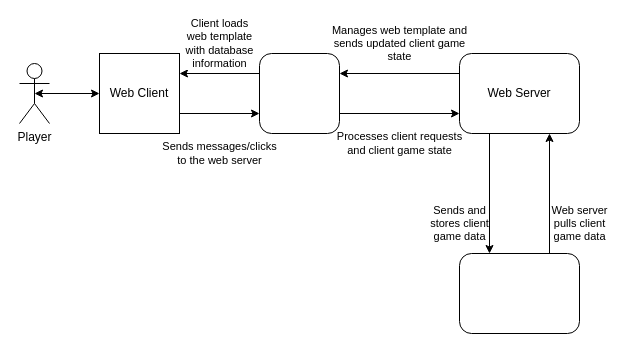
This 624x351 diagram has some shape labels left out. Each missing label, with the centre of its shape:
"Database" belongs at (519,293).
"Web Template" belongs at (299,93).
